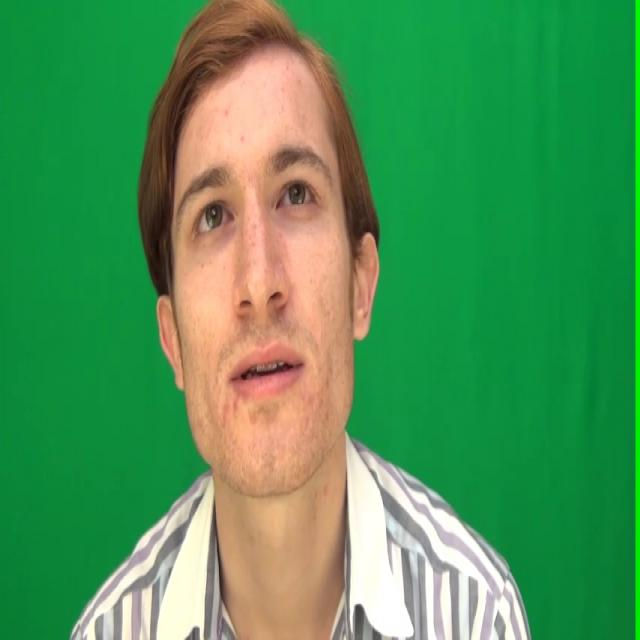Engaged: (171, 42, 352, 486)
